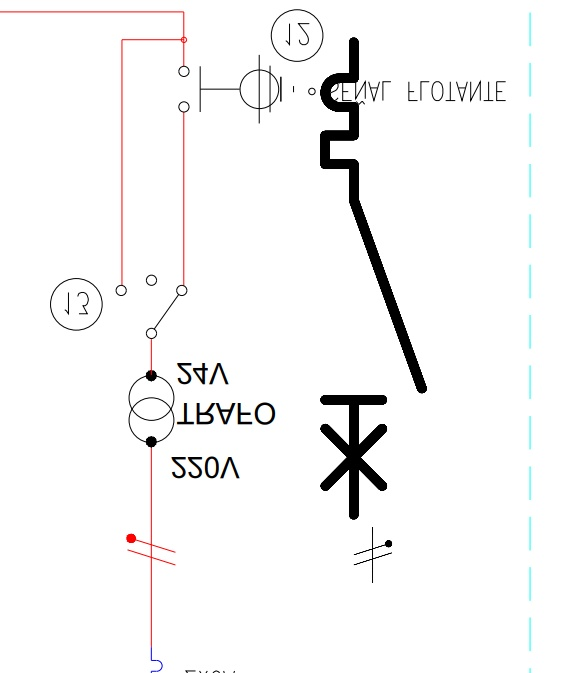interruptor_termomagnetico: (313, 30, 434, 526)
